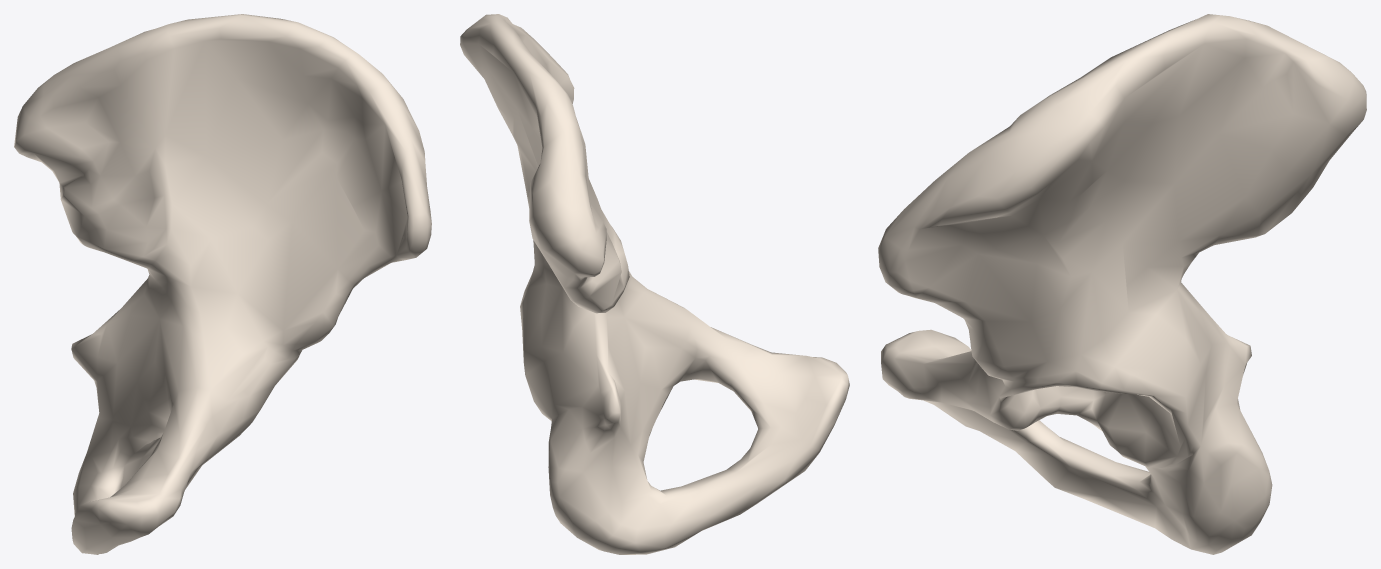
The model's file is left_coxal.glb.
3 views of the same model, side by side, from view 1: azimuth 30°, elevation 25°; view 2: azimuth 150°, elevation 25°; view 3: azimuth 270°, elevation 25° (orthographic). The views are drawn at different scales.
Visible parts, largest first — view 1: Hip bone.r; view 2: Hip bone.r; view 3: Hip bone.r.
Part boxes in pixels (left/top/right/bottom): Hip bone.r: left=14, top=14, right=431, bottom=554; Hip bone.r: left=460, top=14, right=849, bottom=554; Hip bone.r: left=878, top=14, right=1366, bottom=554.
Size of the model in its own units: 0.1553 by 0.2048 by 0.1527.
